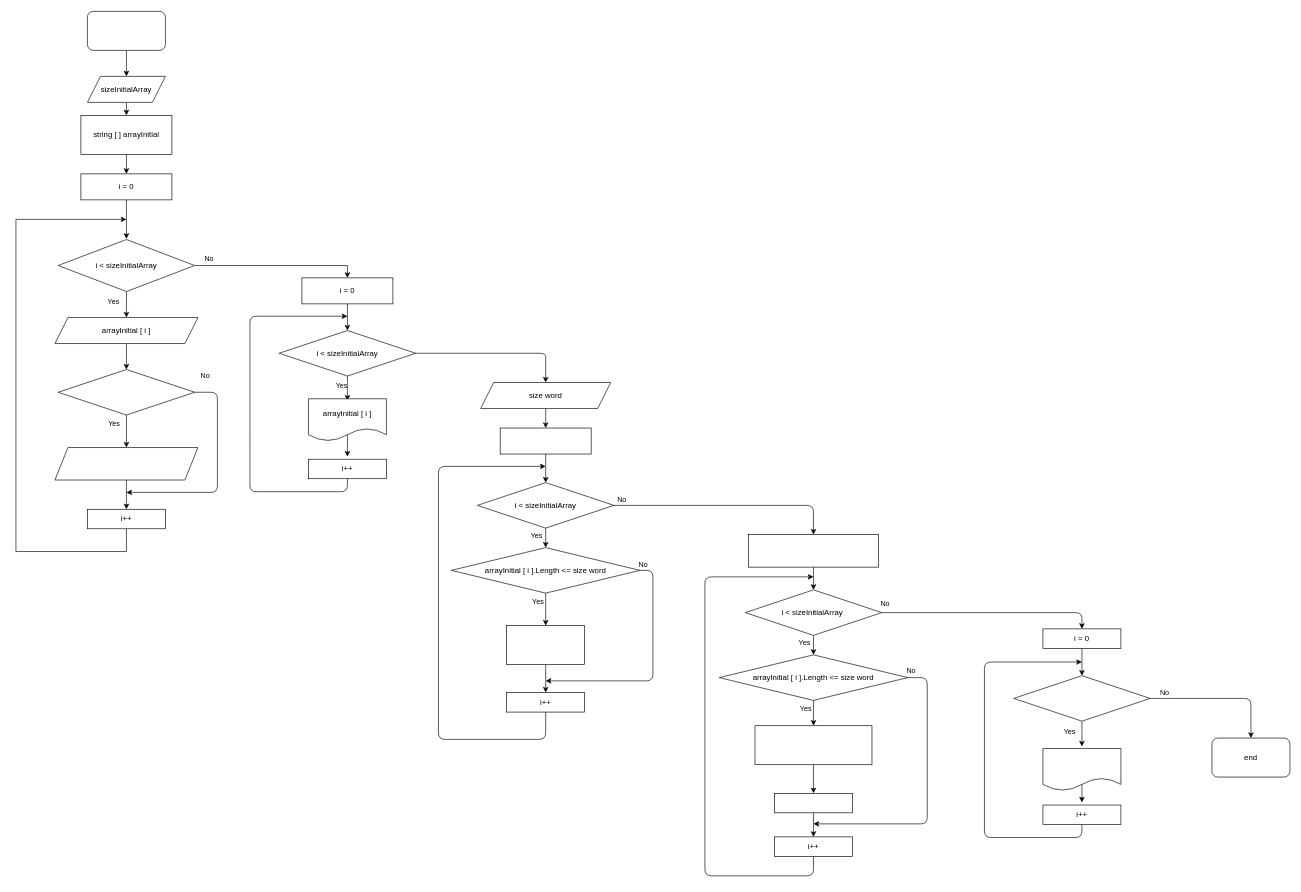
Some shapes in this 1301 by 892 pixel diagram are drawn without their labels. Here are the shapes that lost their labels. From the top down, the box of each, then its label:
(87, 11, 165, 50): start
(58, 369, 195, 415): arrayInitial [ i ] == string.Empty
(500, 427, 591, 454): sizeFinalArray = 0 i = 0
(54, 447, 198, 480): You didn't enter a word. Please, enter the word:
(748, 534, 878, 567): string [ ] arrayFinal j = 0 i = 0
(506, 625, 585, 665): sizeFinalArray ++
(1013, 675, 1150, 721): i < sizeFinalArray
(754, 725, 872, 765): arrayFinal [ j ] = arrayInitial [ i ]
(1042, 748, 1121, 791): arrayFinal [ i ]
(774, 793, 852, 813): j++
